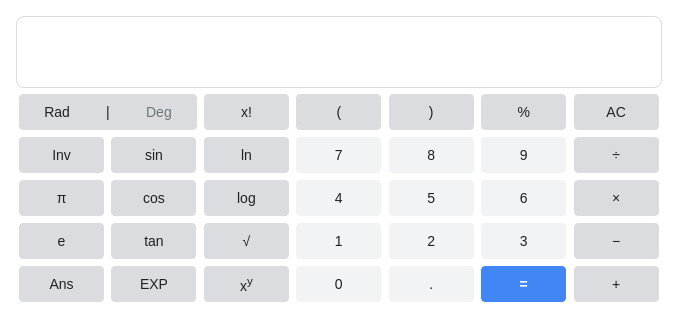
Test: AppComponent › should invert some controls on invert button click
Expected: the button with test id "sin" reads "sin", x1=111 y1=137 x2=196 y2=173
Expected: the button with test id "cos" reads "cos", x1=111 y1=180 x2=196 y2=216
Click the button with test id "invert" at [62, 155], box x1=19 y1=137 x2=104 y2=173
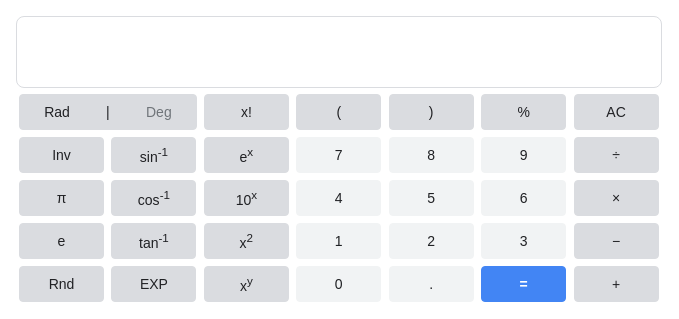
Result: the button with test id "sin" reads "sin-1" at x1=111 y1=137 x2=196 y2=173
Result: the button with test id "cos" reads "cos-1" at x1=111 y1=180 x2=196 y2=216
Result: the button with test id "tan" reads "tan-1" at x1=111 y1=223 x2=196 y2=259
